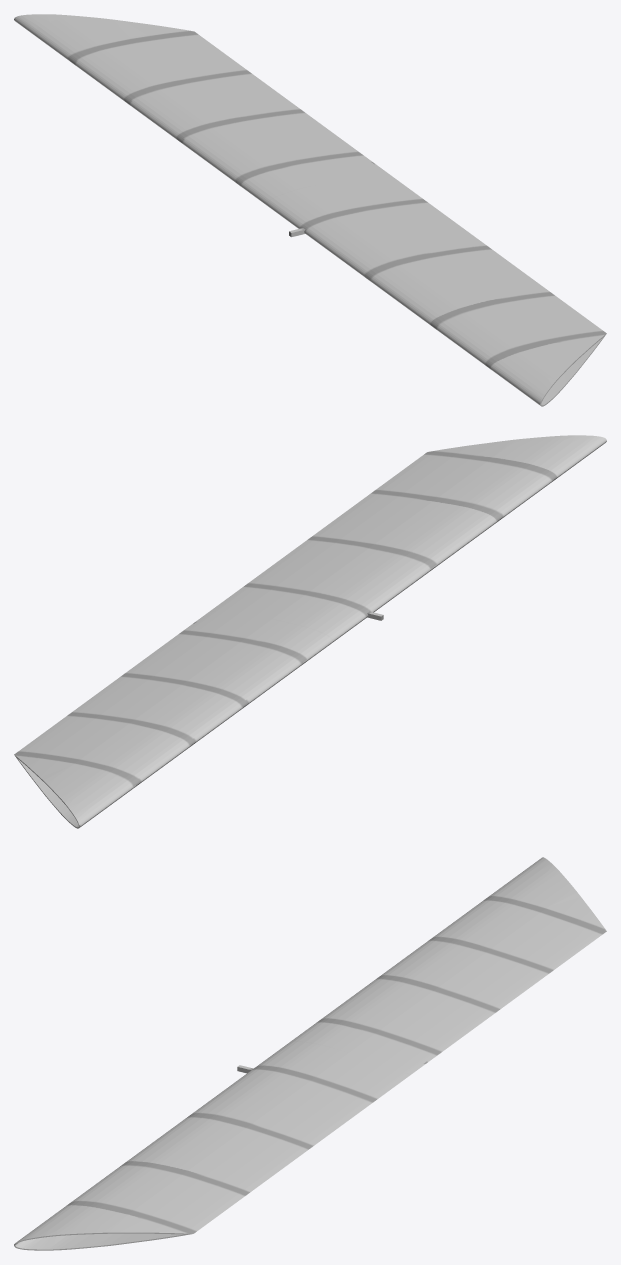
File: flap.dae
3 views of the same model, one above another, from view 1: azimuth 30°, elevation 25°; view 2: azimuth 150°, elevation 25°; view 3: azimuth 330°, elevation 25° (orthographic).
Visible parts, largest first — view 1: flap_v3; view 2: flap_v3; view 3: flap_v3.
Boxes of the visible parts, x1=… form: flap_v3: x1=14, y1=14, x2=606, y2=406; flap_v3: x1=14, y1=435, x2=606, y2=828; flap_v3: x1=14, y1=857, x2=606, y2=1250.
Size of the model in its own units: 0.8415 by 5.64 by 0.0916.
Materials: 1 (1 with a texture image).
